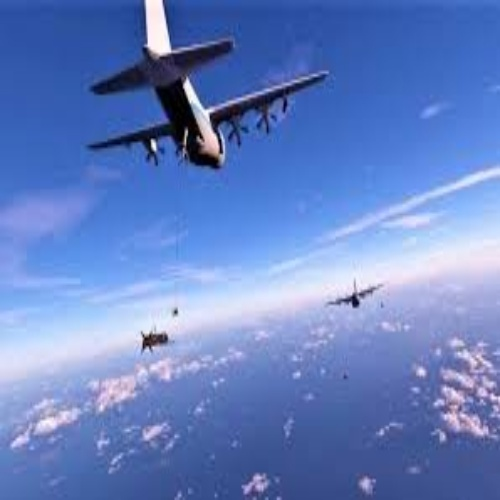uav471: (325, 275, 384, 310), (138, 325, 171, 355)
